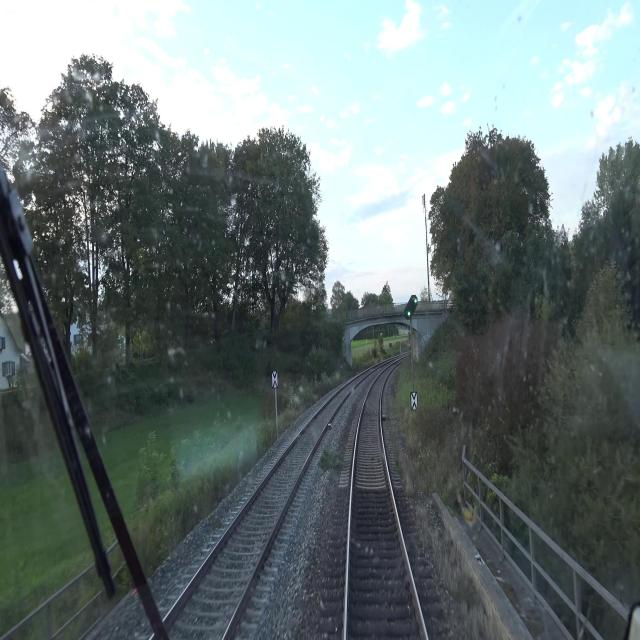rail-track: (179, 381, 355, 639), (348, 370, 424, 639)
